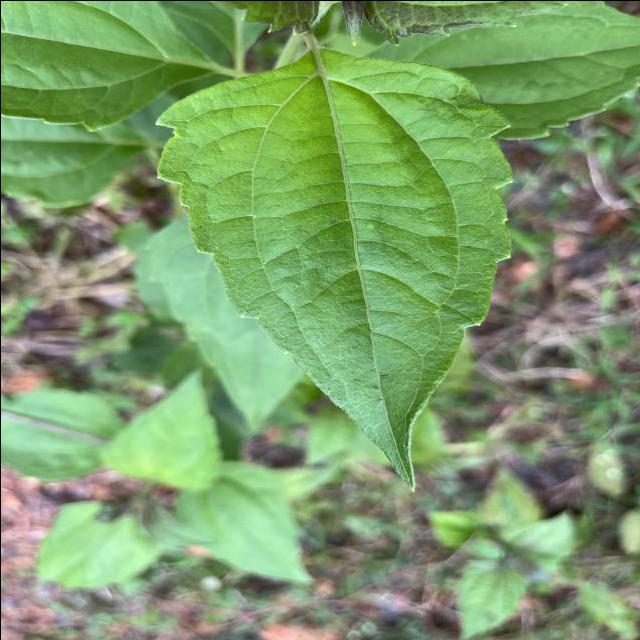Chromolaena odorata: (143, 45, 522, 498)
